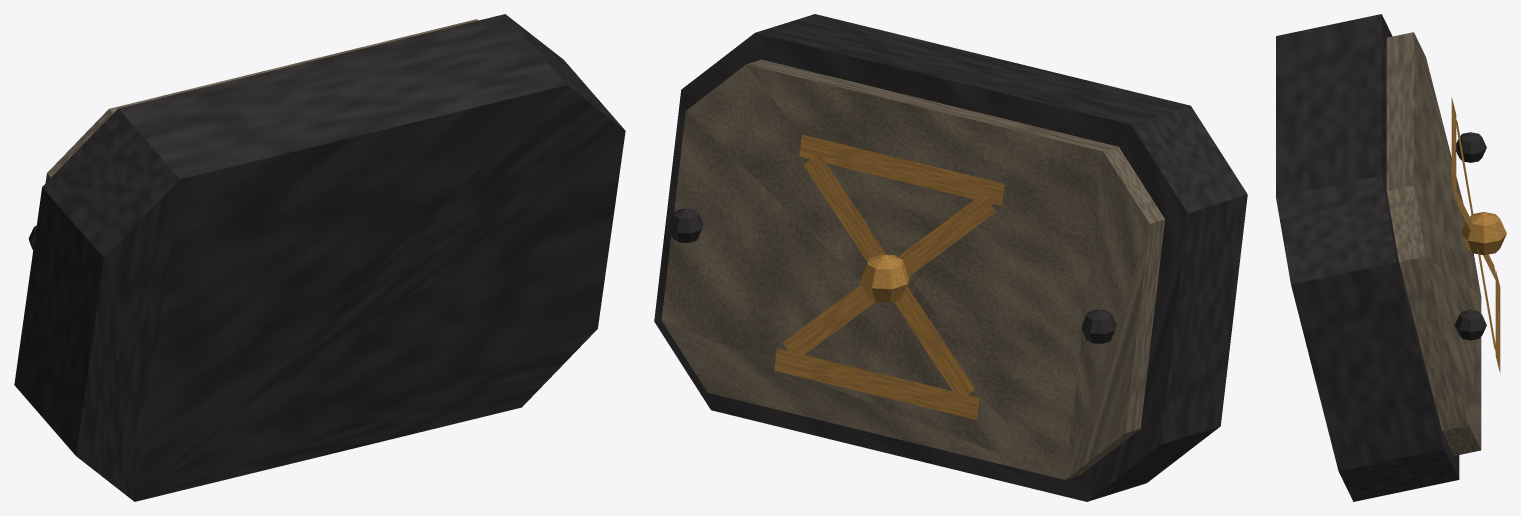
File: TimerPedestal_TypeBadge.obj
3 views of the same model, side by side, from view 1: azimuth 30°, elevation 25°; view 2: azimuth 150°, elevation 25°; view 3: azimuth 270°, elevation 25° (orthographic). The views are drawn at different scales.
Visible parts, largest first — view 1: 24_TimerType_Badge_Base, 25_TimerType_Badge_Slate; view 2: 25_TimerType_Badge_Slate, 24_TimerType_Badge_Base, 26_TimerType_Icon_Hourglass, 27_Type_Badge_Rivets; view 3: 24_TimerType_Badge_Base, 25_TimerType_Badge_Slate, 26_TimerType_Icon_Hourglass, 27_Type_Badge_Rivets.
Boxes of the visible parts, x1,y1,x2,y2 form: 24_TimerType_Badge_Base: (14, 14, 625, 501); 25_TimerType_Badge_Slate: (45, 19, 478, 183); 25_TimerType_Badge_Slate: (661, 59, 1164, 479); 24_TimerType_Badge_Base: (654, 14, 1247, 501); 26_TimerType_Icon_Hourglass: (774, 134, 1004, 419); 27_Type_Badge_Rivets: (668, 208, 1116, 343); 24_TimerType_Badge_Base: (1276, 14, 1459, 501); 25_TimerType_Badge_Slate: (1386, 32, 1481, 455); 26_TimerType_Icon_Hourglass: (1451, 97, 1506, 373); 27_Type_Badge_Rivets: (1454, 132, 1486, 340).
Bounding box in the file's own units: 0.38 × 0.2655 × 0.1703.
3 materials, 3 textured.
